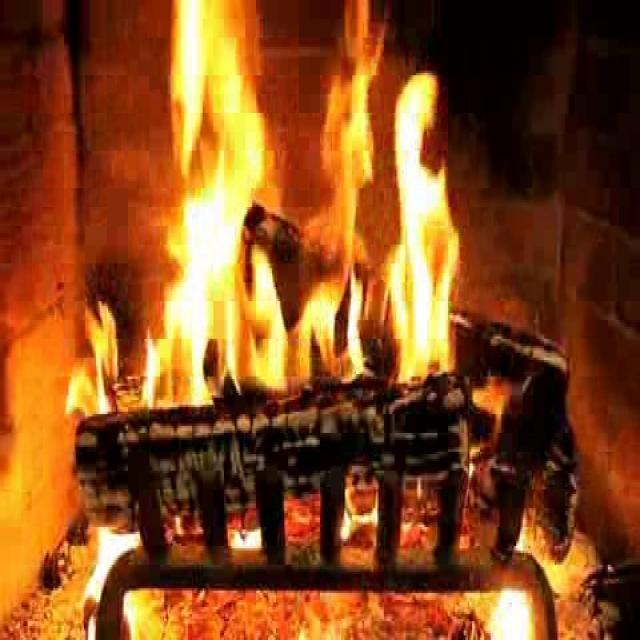Fire: (142, 16, 470, 387)
